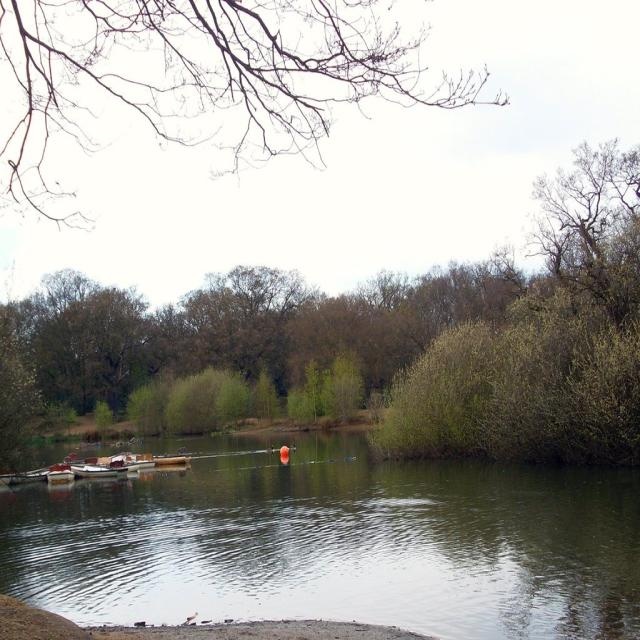Boat: (136, 452, 190, 469), (44, 462, 75, 486), (0, 469, 41, 482), (76, 464, 120, 474)
